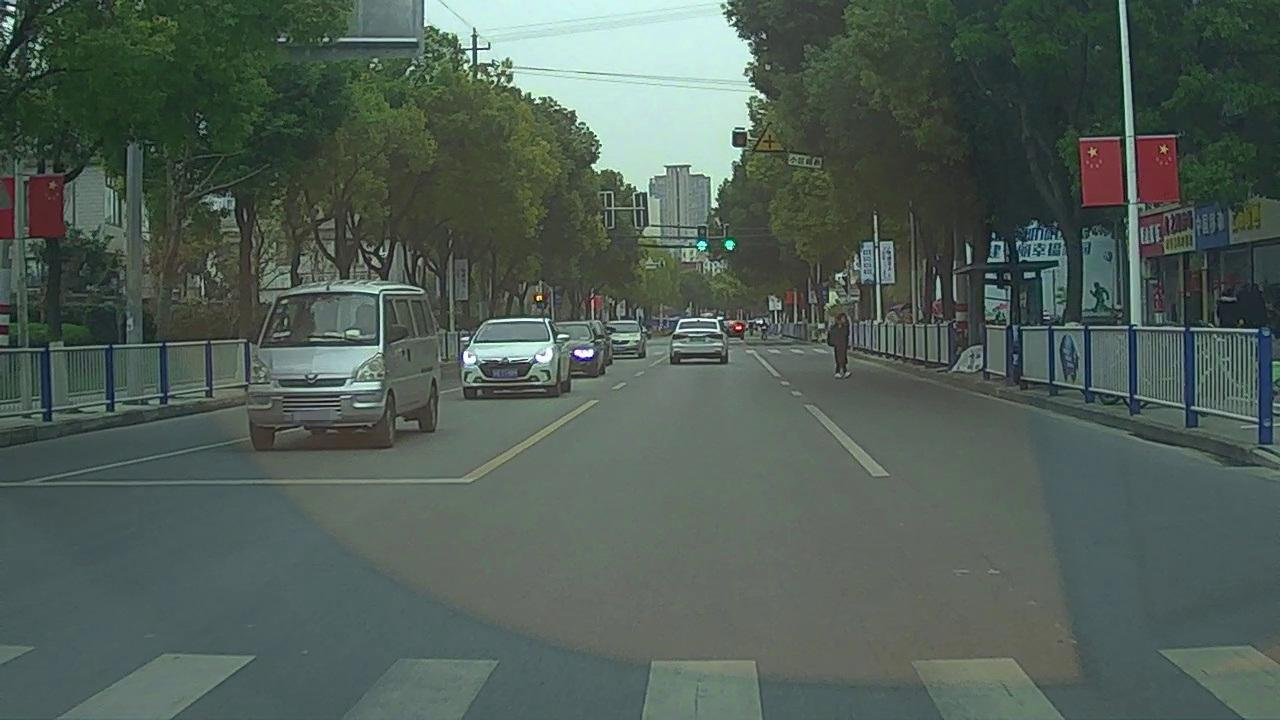traffic_light: (723, 230, 736, 260), (697, 230, 707, 256)
